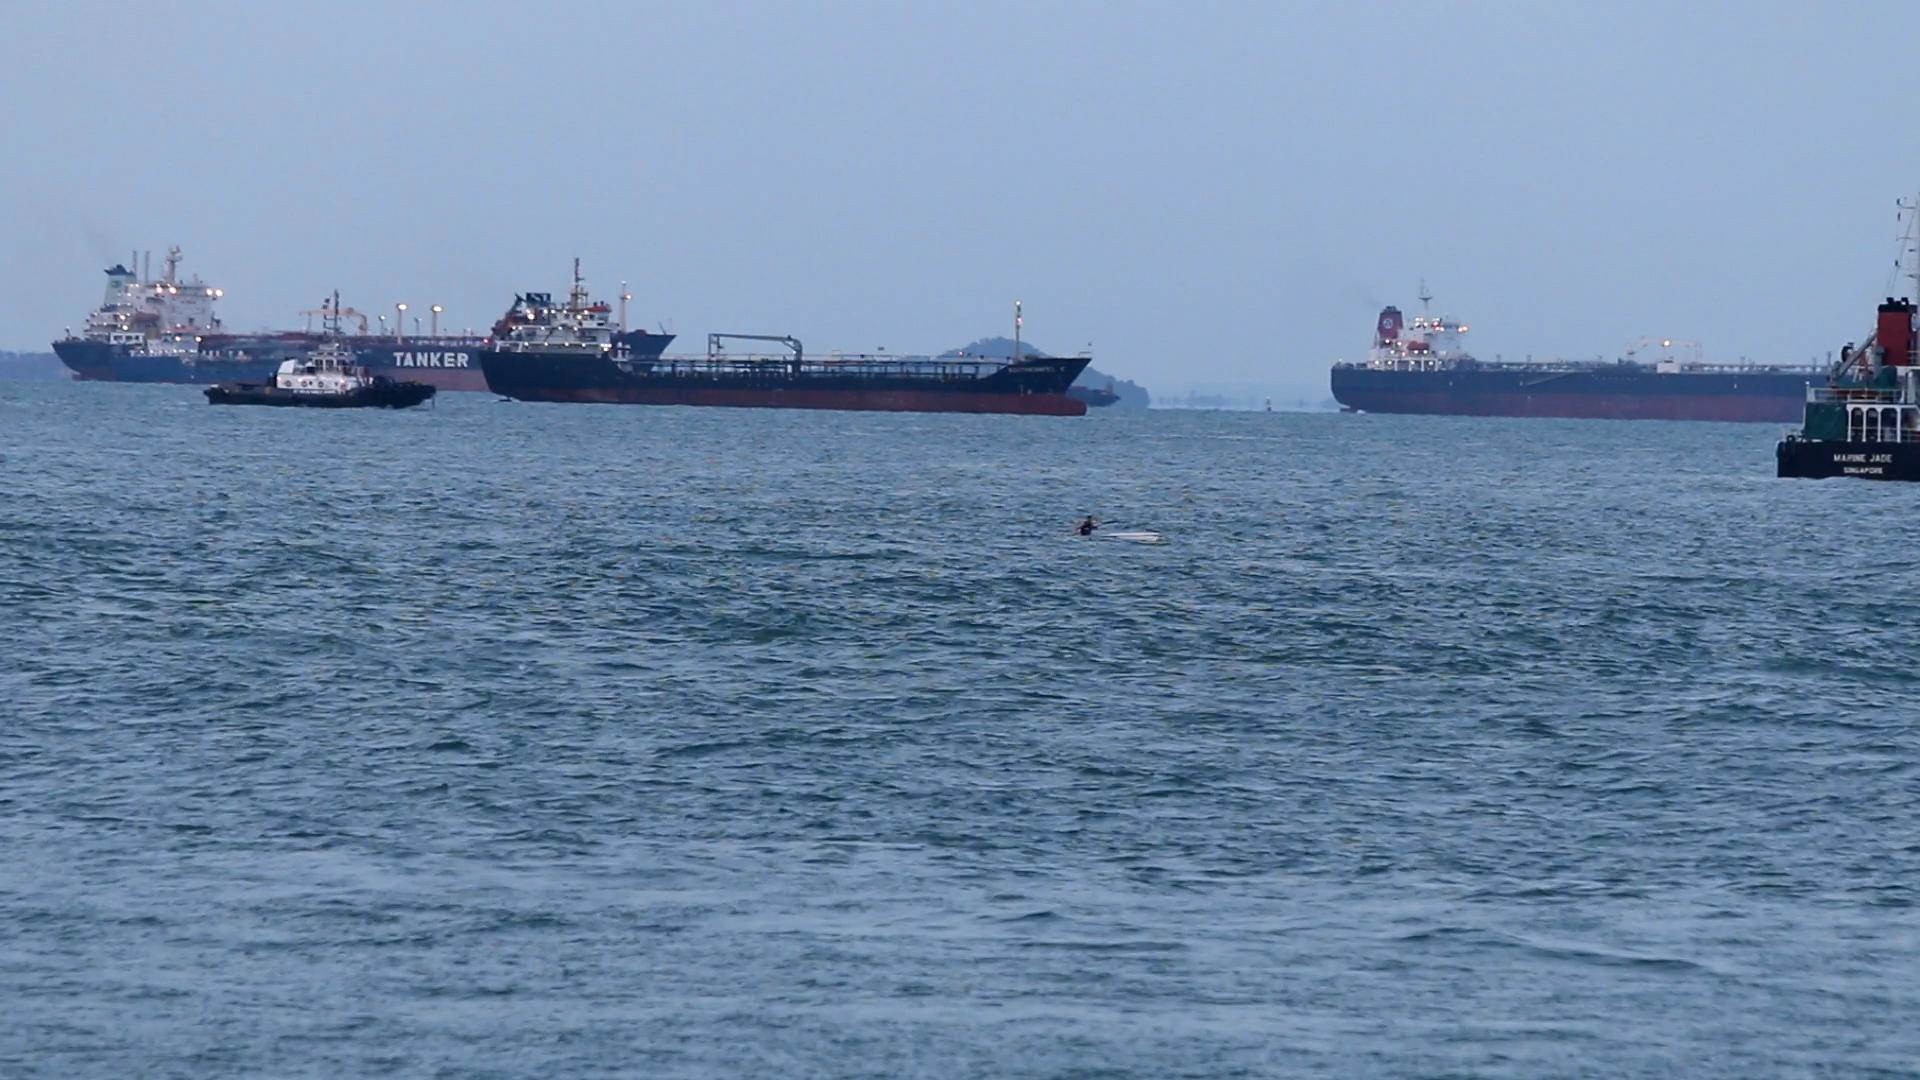Container Ship: (485, 255, 1100, 417), (1328, 277, 1846, 423), (53, 244, 501, 392), (1779, 195, 1920, 484), (1068, 381, 1121, 411)
